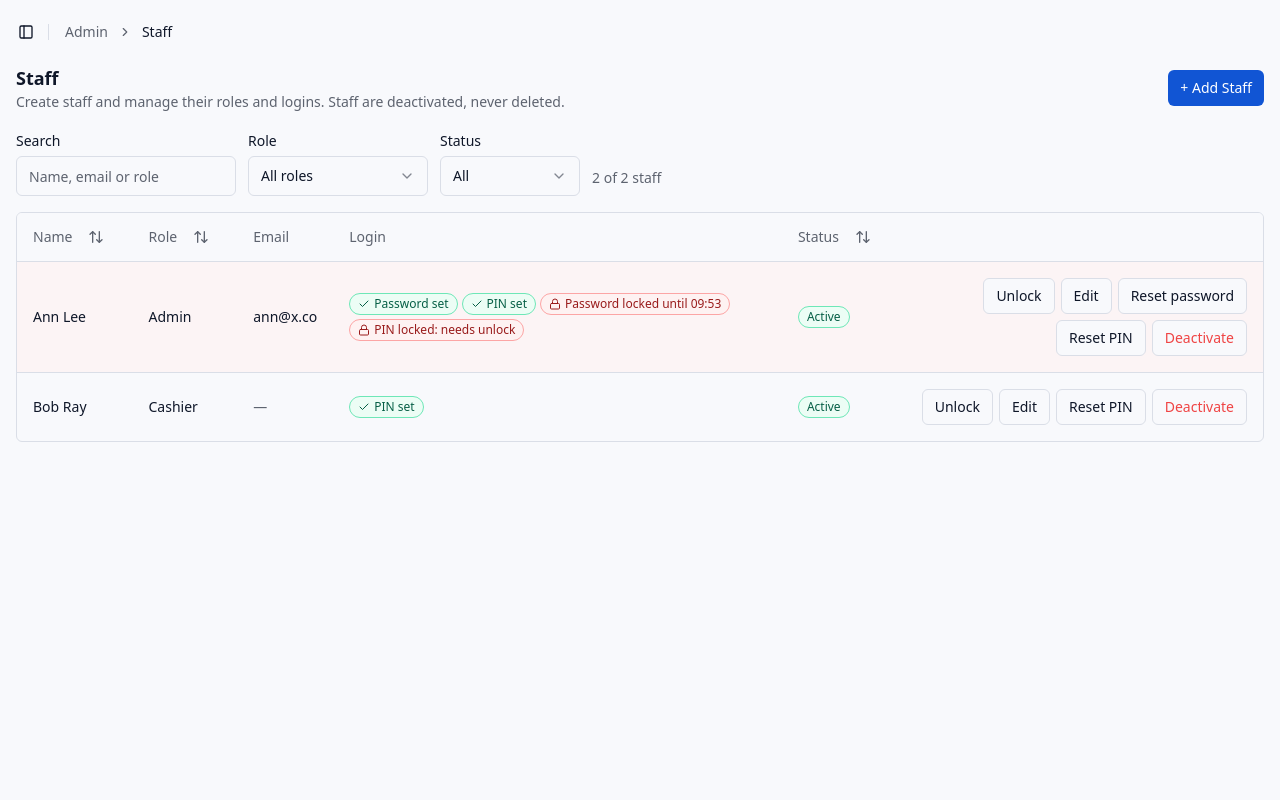
Scenario: Staff page locks (backend without `blocks`) › shows a 404 plainly
The image size is (1280, 800).
Check: the text "Ann Lee" is shown, box [33,306,86,326]
Click the button "Unlock" in the row of "Ann Lee": (1019, 296) [983,278,1055,314]
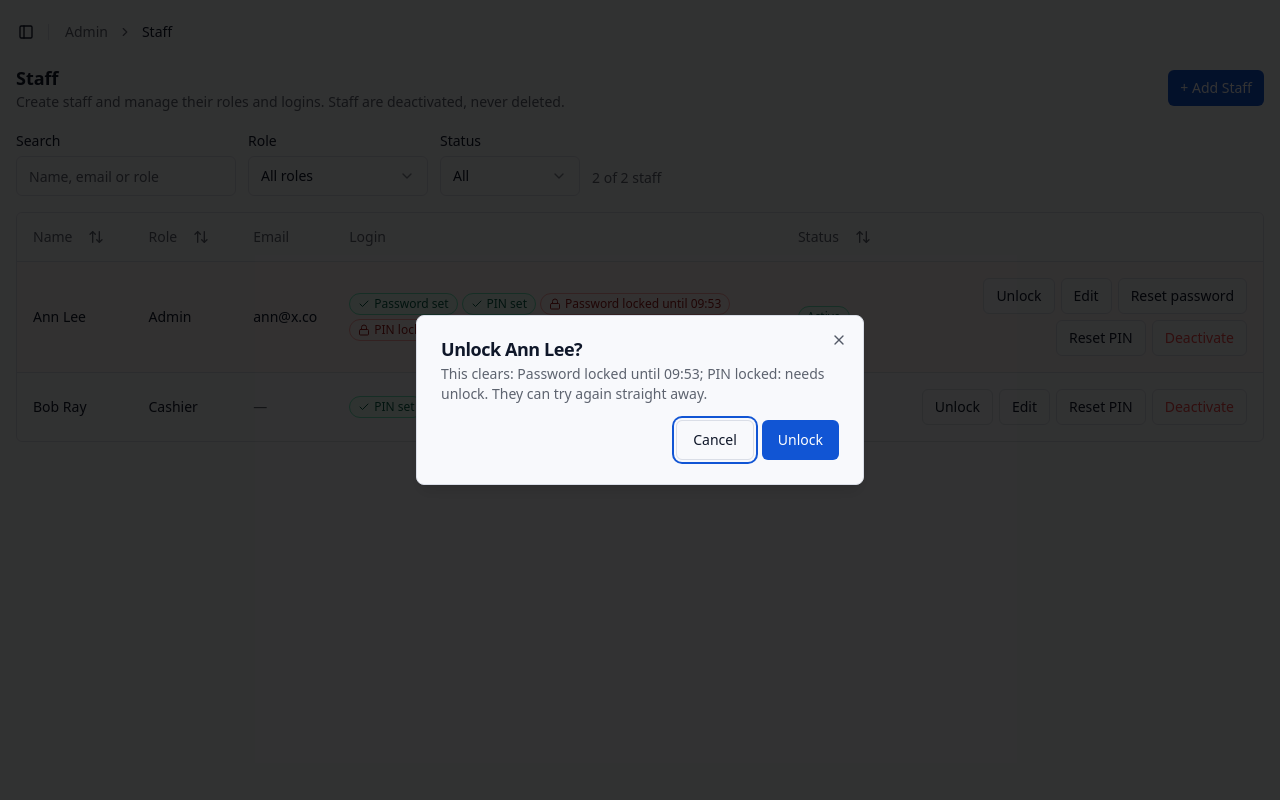
Click the button "Unlock": (800, 440) [762,420,839,460]
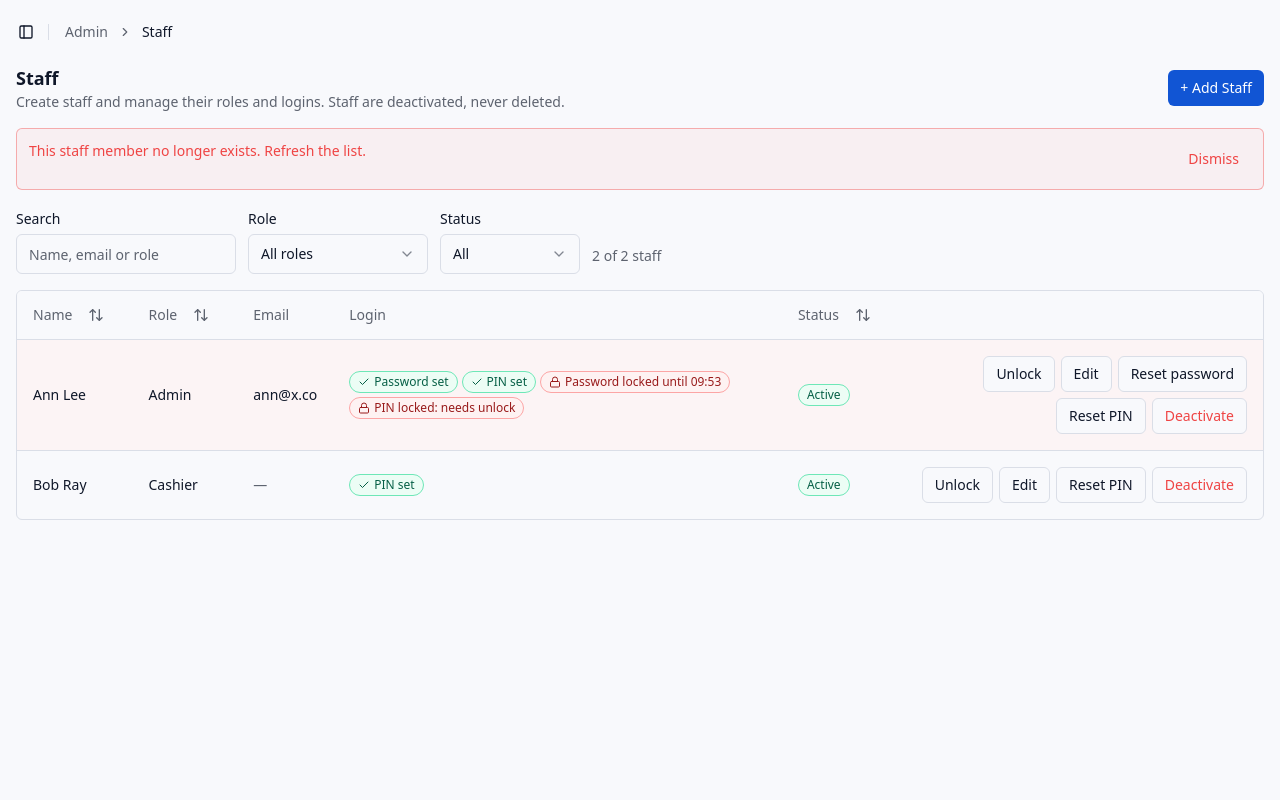
Check: the text "This staff member no longer exists. Refresh the list." is shown, box [29,141,366,161]
